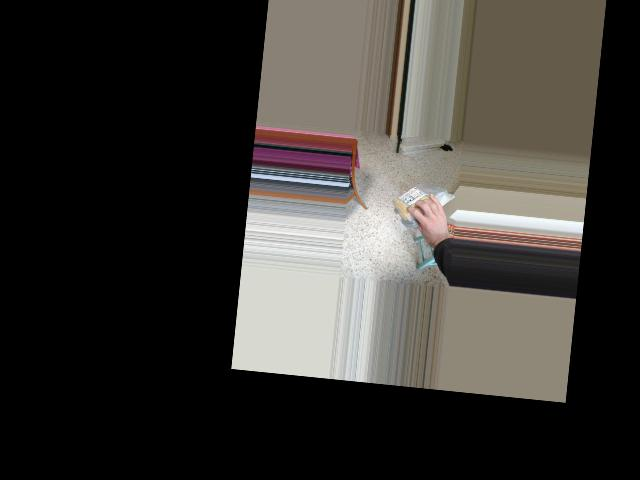cheese: (384, 183, 455, 219)
